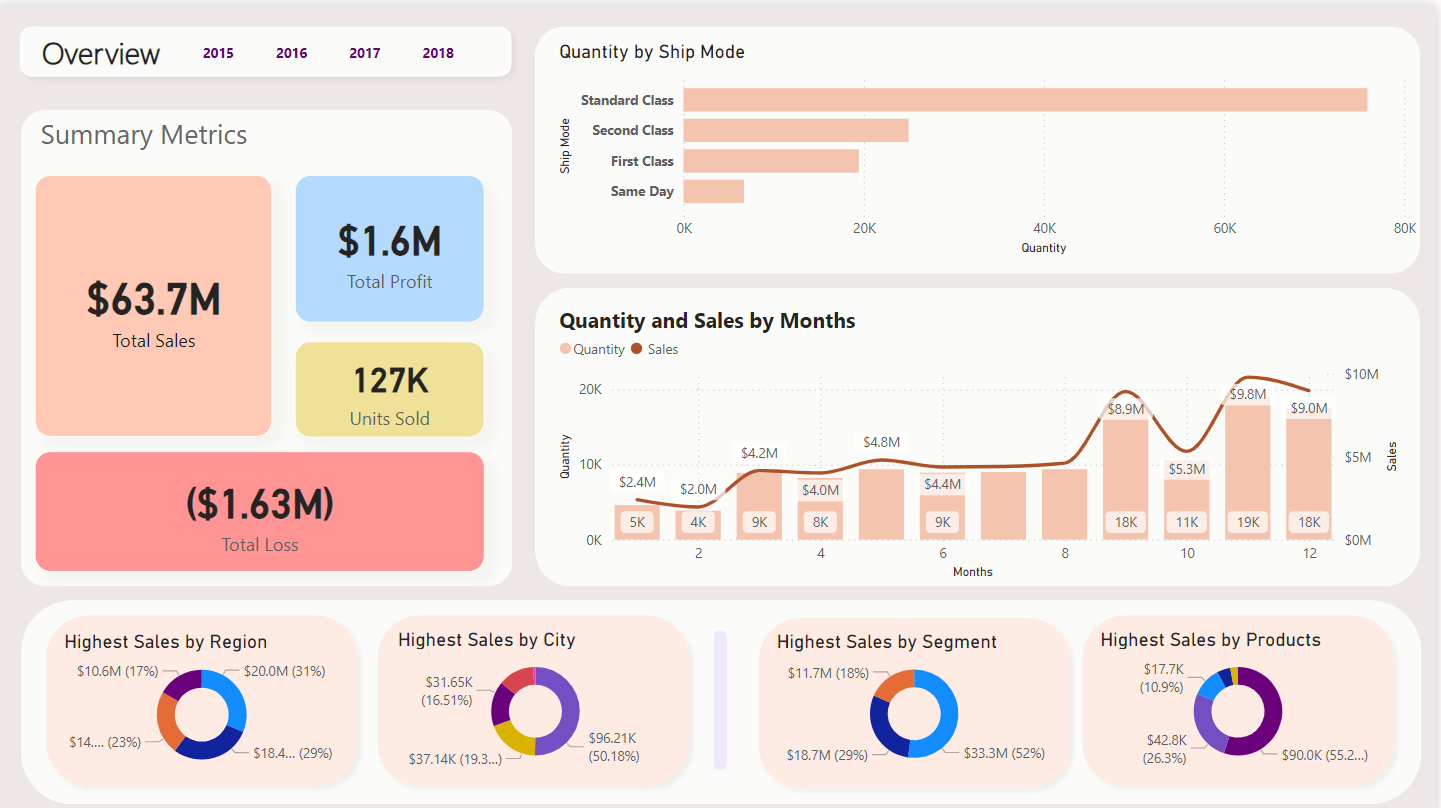

The dashboard page shown, as its layout file describes it:
{"tool":"powerbi","page":{"name":"Page 1","canvas":[1280,720],"ordinal":0},"visuals":[{"type":"shape","box":[21.7,528.3,1245,181.7],"z":0},{"type":"shape","box":[21.7,93,436.7,423.3],"z":1000},{"type":"shape","box":[36,533,295,170],"z":2000},{"type":"card","fields":{"Values":["Sum(sales data.Sales)"]},"box":[34.4,151.3,211.4,232.9],"z":3000},{"type":"card","fields":{"Values":["Sum(sales data.Profit)"]},"box":[265.9,151.3,168.6,131.4],"z":4000},{"type":"card","fields":{"Values":["Sum(sales data.Profit)"]},"box":[34.4,397,400,107.1],"z":5000},{"type":"card","fields":{"Values":["Sum(sales data.Quantity)"]},"box":[265.9,298.4,168.6,85.7],"z":6000},{"type":"shape","box":[11.7,10,455,62.5],"z":7000},{"type":"textbox","box":[35.7,18.6,134.3,47.1],"z":8000},{"type":"slicer","title":"Year","fields":{"Values":["sales data.Year"]},"box":[140,18.6,308.6,47.1],"z":9000},{"type":"textbox","box":[34.3,93.7,400,57.1],"z":10000},{"type":"shape","box":[668.3,535,295,170],"z":11000},{"type":"shape","box":[330,533.3,295,170],"z":12000},{"type":"shape","box":[956.7,533.3,295,170],"z":13000},{"type":"donutChart","fields":{"Category":["sales data.Segment"],"Y":["Sum(sales data.Sales)"]},"box":[688.3,555,255,130],"z":14000},{"type":"donutChart","fields":{"Category":["sales data.Product Name"],"Y":["Sum(sales data.Sales)"]},"box":[976.7,553.3,255,130],"z":15000},{"type":"donutChart","fields":{"Y":["Sum(sales data.Sales)"],"Category":["sales data.City"]},"box":[351.7,553.3,255,130],"z":16000},{"type":"donutChart","fields":{"Category":["sales data.Region"],"Y":["Sum(sales data.Sales)"]},"box":[55,555,255,131.7],"z":17000},{"type":"shape","box":[638,556,12,125],"z":18000},{"type":"shape","box":[478.6,251.4,787.1,265.7],"z":19000},{"type":"lineClusteredColumnComboChart","fields":{"Category":["sales data.Order Date.2"],"Y":["Sum(sales data.Quantity)"],"Y2":["Sum(sales data.Sales)"]},"box":[495.7,267.1,757.1,248.6],"z":20000},{"type":"shape","box":[478.6,18.6,787.1,220],"z":21000},{"type":"clusteredBarChart","fields":{"Y":["Sum(sales data.Quantity)"],"Category":["sales data.Ship Mode"]},"box":[495.7,31.4,771.4,195.7],"z":22000}]}

Visuals, with their boxes in screenshot pixels (x1, y1, x2, y2), scaled from the page's 1280x720 canvas onto the 1441x808 screenshot:
shape: [24,593,1426,797]
shape: [24,104,516,579]
shape: [41,598,373,789]
card - Sum(sales data.Sales): [39,170,277,431]
card - Sum(sales data.Profit): [299,170,489,317]
card - Sum(sales data.Profit): [39,446,489,566]
card - Sum(sales data.Quantity): [299,335,489,431]
shape: [13,11,525,81]
textbox: [40,21,191,74]
"Year" slicer: [158,21,505,74]
textbox: [39,105,489,169]
shape: [752,600,1084,791]
shape: [372,598,704,789]
shape: [1077,598,1409,789]
donutChart - sales data.Segment x Sum(sales data.Sales): [775,623,1062,769]
donutChart - sales data.Product Name x Sum(sales data.Sales): [1100,621,1387,767]
donutChart - Sum(sales data.Sales) x sales data.City: [396,621,683,767]
donutChart - sales data.Region x Sum(sales data.Sales): [62,623,349,771]
shape: [718,624,732,764]
shape: [539,282,1425,580]
lineClusteredColumnComboChart - sales data.Order Date.2 x Sum(sales data.Quantity): [558,300,1410,579]
shape: [539,21,1425,268]
clusteredBarChart - Sum(sales data.Quantity) x sales data.Ship Mode: [558,35,1426,255]
